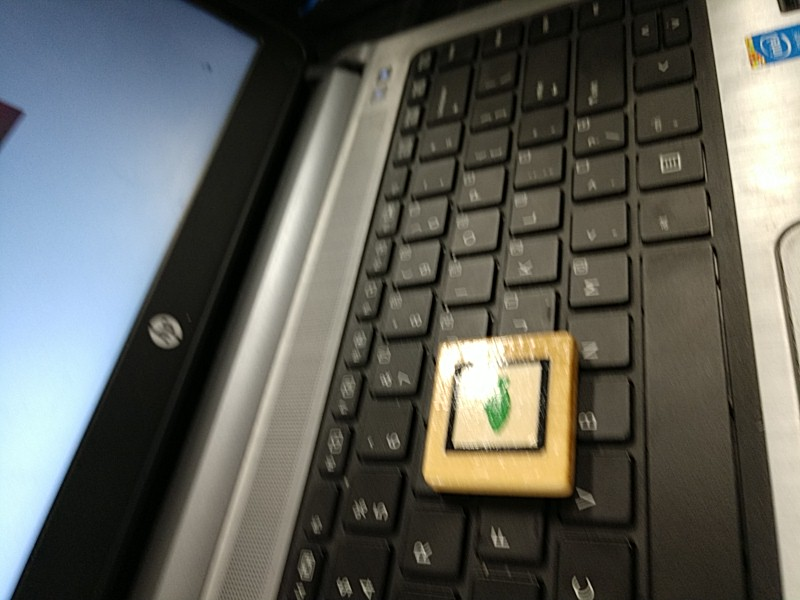Fish Tile: (447, 359, 548, 452)
